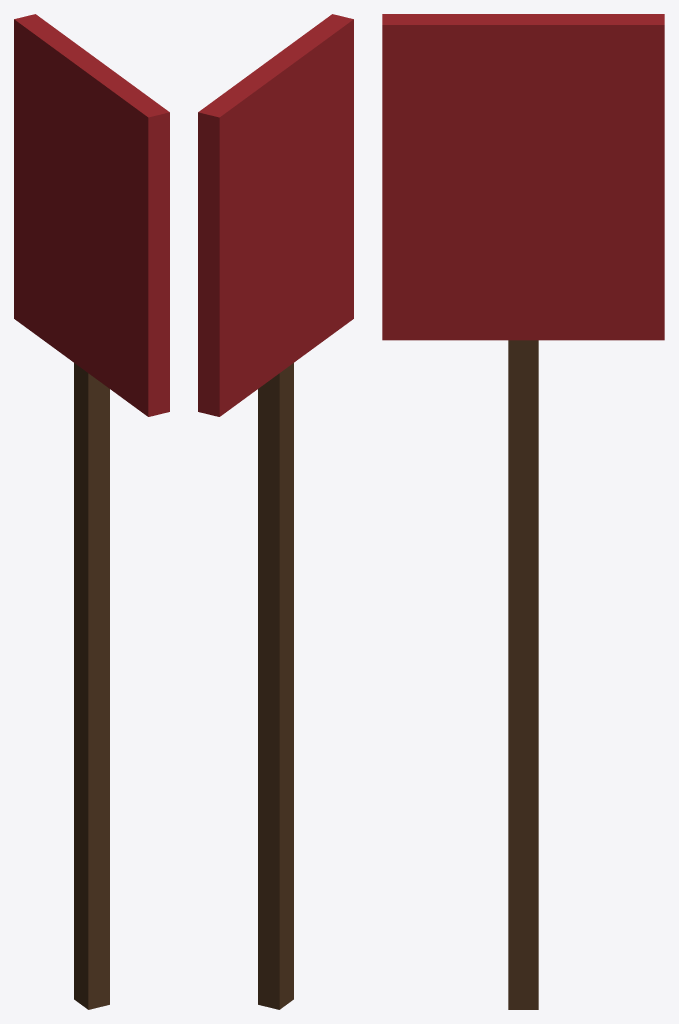
File: swatter.glb
3 views of the same model, side by side, from view 1: azimuth 30°, elevation 25°; view 2: azimuth 150°, elevation 25°; view 3: azimuth 270°, elevation 25° (orthographic). The views are drawn at different scales.
Visible parts, largest first — view 1: #a3262c_noshadow, #5a3e26_noshadow; view 2: #a3262c_noshadow, #5a3e26_noshadow; view 3: #a3262c_noshadow, #5a3e26_noshadow.
Boxes of the visible parts, bbox=[...] form: #a3262c_noshadow: bbox=[14, 14, 169, 416]; #5a3e26_noshadow: bbox=[74, 363, 109, 1009]; #a3262c_noshadow: bbox=[198, 14, 353, 416]; #5a3e26_noshadow: bbox=[258, 363, 293, 1009]; #a3262c_noshadow: bbox=[382, 14, 664, 340]; #5a3e26_noshadow: bbox=[508, 340, 538, 1009].
Size of the model in its own units: 0.012 by 0.5 by 0.13.
